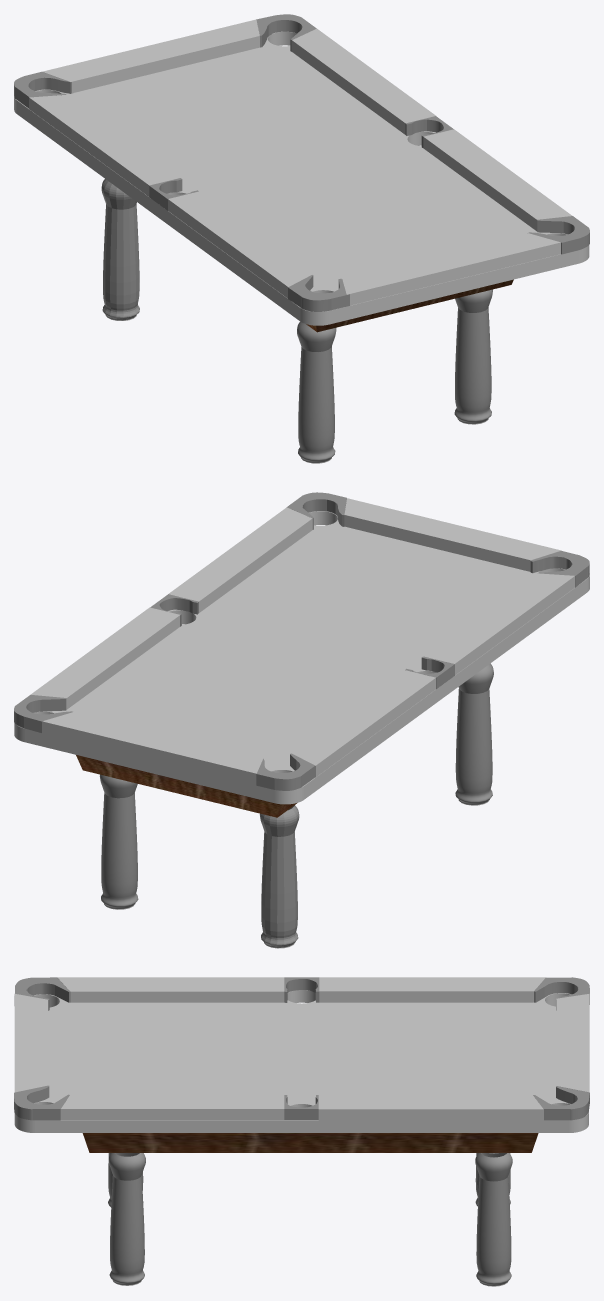
File: Table.FBX
3 renders of one model, top to bottom at view 1: azimuth 30°, elevation 25°; view 2: azimuth 150°, elevation 25°; view 3: azimuth 270°, elevation 25°, orthographic. The views are drawn at different scales.
Visible parts, largest first — view 1: Circle004, Box002, Box001, Box006, Box005, Box003, Box004, Line007, Line010, Line008, Line004, Line003 (+5 smaller); view 2: Circle004, Box001, Box002, Box006, Box005, Box004, Box003, Line010, Line007, Line009, Box007, Line001 (+5 smaller); view 3: Circle004, Box007, Box003, Box005, Box006, Box004, Line009, Line008, Box001, Box002, Line003, Line001 (+4 smaller).
Boxes of the visible parts, x1,y1,x2,y2 form: Circle004: [14, 31, 589, 325]; Box002: [342, 233, 560, 305]; Box001: [42, 19, 259, 93]; Box006: [29, 95, 179, 196]; Box005: [168, 191, 311, 298]; Box003: [291, 28, 435, 134]; Box004: [423, 129, 572, 231]; Line007: [297, 321, 336, 463]; Line010: [101, 179, 139, 320]; Line008: [454, 289, 492, 424]; Line004: [288, 275, 349, 311]; Line003: [528, 216, 589, 254]; Circle004: [14, 511, 589, 804]; Box001: [42, 712, 263, 785]; Box002: [344, 498, 561, 571]; Box006: [292, 670, 435, 777]; Box005: [424, 573, 574, 674]; Box004: [168, 507, 312, 612]; Box003: [30, 607, 179, 709]; Line010: [259, 805, 299, 948]; Line007: [455, 663, 493, 805]; Line009: [99, 774, 138, 909]; Box007: [76, 755, 296, 817]; Line001: [14, 695, 72, 732]; Circle004: [14, 990, 588, 1132]; Box007: [82, 1133, 538, 1152]; Box003: [318, 1095, 543, 1120]; Box005: [57, 977, 284, 1002]; Box006: [319, 977, 545, 1002]; Box004: [60, 1095, 284, 1119]; Line009: [475, 1153, 512, 1286]; Line008: [108, 1153, 145, 1285]; Box001: [556, 994, 589, 1092]; Box002: [15, 994, 48, 1092]; Line003: [14, 1085, 69, 1120]; Line001: [533, 1086, 589, 1120].
Bounding box in the file's own units: 1538 × 1088 × 2837.
